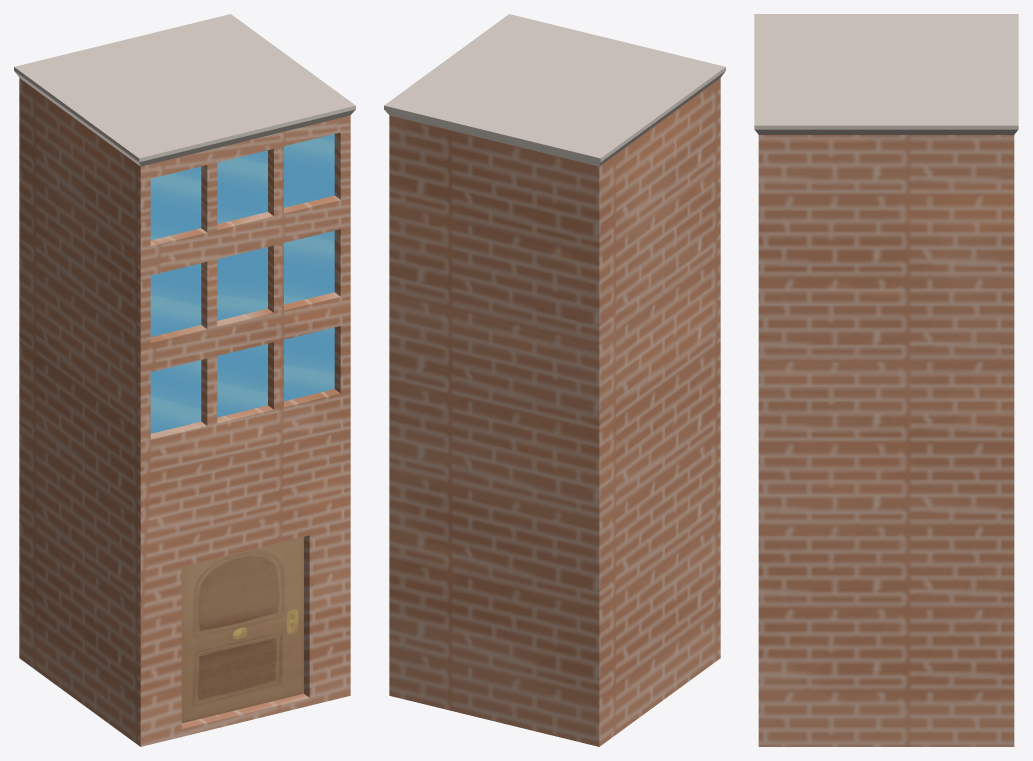
The model's file is SM_cassa_8.fbx.
3 views of the same model, side by side, from view 1: azimuth 30°, elevation 25°; view 2: azimuth 150°, elevation 25°; view 3: azimuth 270°, elevation 25° (orthographic). The views are drawn at different scales.
Parts seen in each view (by area): view 1: Casa_0.009; view 2: Casa_0.009; view 3: Casa_0.009.
Boxes of the visible parts, x1,y1,x2,y2 form: Casa_0.009: (14,14,355,746); Casa_0.009: (384,14,725,746); Casa_0.009: (754,14,1018,746).
Size of the model in its own units: 642 by 1672 by 642.
